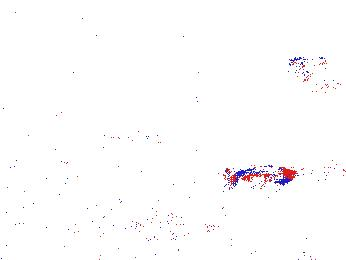X-ray fish: (282, 55, 344, 97), (125, 209, 193, 240)
red belly glassfish: (206, 214, 230, 234)
redtail glassfish: (90, 127, 182, 156), (226, 162, 291, 192), (289, 157, 346, 190), (33, 68, 86, 89)
